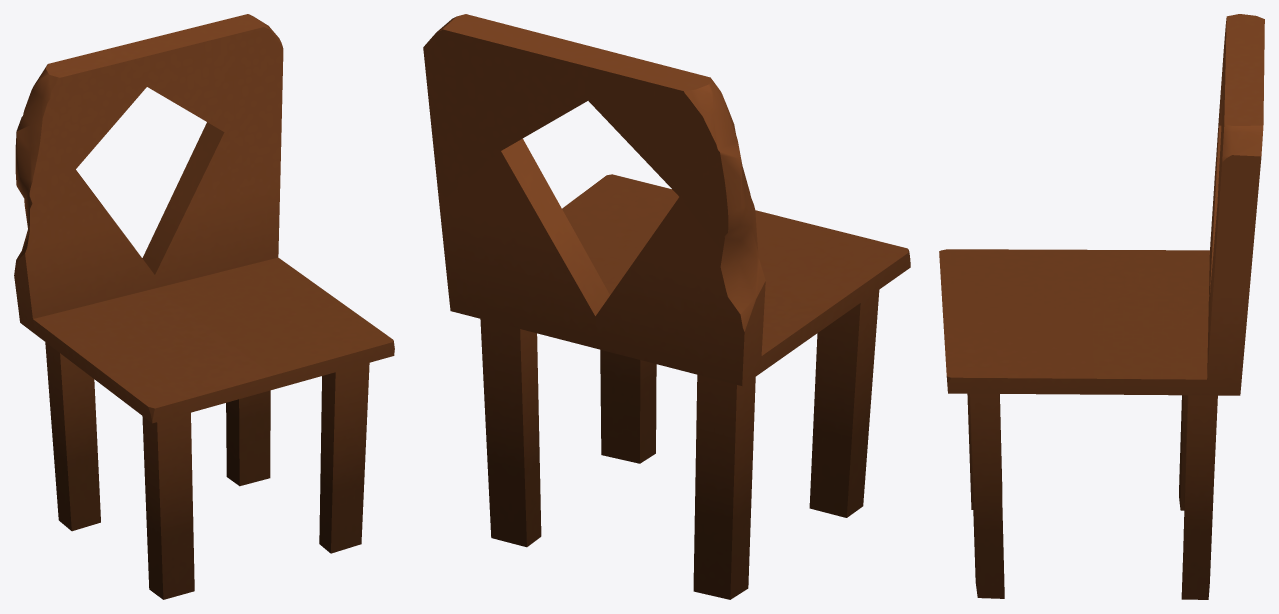
Rendered from furniture_chair0.fbx.
3 views of the same model, side by side, from view 1: azimuth 30°, elevation 25°; view 2: azimuth 150°, elevation 25°; view 3: azimuth 270°, elevation 25° (orthographic). The views are drawn at different scales.
Parts seen in each view (by area): view 1: furniture_chair0; view 2: furniture_chair0; view 3: furniture_chair0.
Part boxes in pixels (x1,y1,x2,y2): furniture_chair0: (14, 14, 394, 599); furniture_chair0: (423, 14, 910, 599); furniture_chair0: (939, 14, 1264, 599).
Size of the model in its own units: 0.5328 by 0.5159 by 0.8499.
